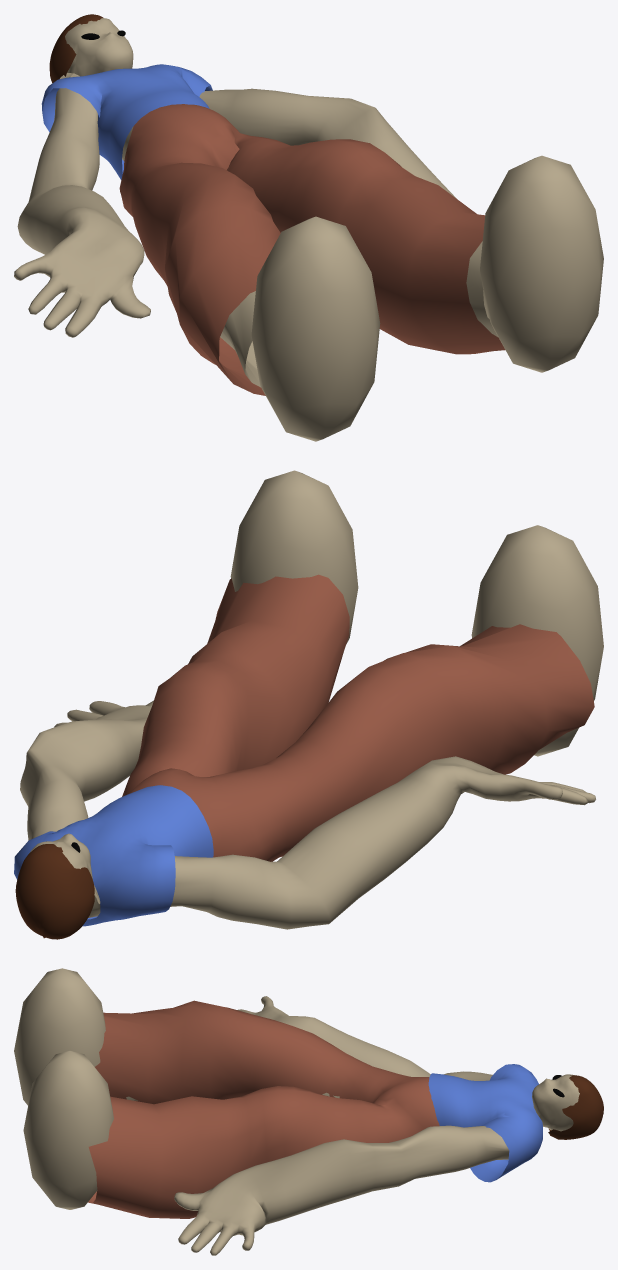
The model's file is kid.glb.
3 views of the same model, one above another, from view 1: azimuth 30°, elevation 25°; view 2: azimuth 150°, elevation 25°; view 3: azimuth 270°, elevation 25° (orthographic). The views are drawn at different scales.
Visible parts, largest first — view 1: Cube.004, Cube.001, Icosphere.001, Icosphere, Cube.003, Cube.002; view 2: Cube.004, Cube.001, Cube.003, Icosphere.001, Icosphere, Cube.002; view 3: Cube.004, Cube.001, Icosphere, Cube.003, Icosphere.001, Cube.002.
Part boxes in pixels (left/top/right/bottom): Cube.004: left=119, top=104, right=505, bottom=395; Cube.001: left=14, top=18, right=498, bottom=387; Icosphere.001: left=251, top=216, right=380, bottom=441; Icosphere: left=480, top=155, right=603, bottom=372; Cube.003: left=41, top=64, right=212, bottom=179; Cube.002: left=49, top=14, right=103, bottom=82; Cube.004: left=122, top=574, right=594, bottom=861; Cube.001: left=20, top=700, right=595, bottom=929; Cube.003: left=14, top=785, right=213, bottom=926; Icosphere.001: left=471, top=525, right=603, bottom=756; Icosphere: left=230, top=470, right=358, bottom=643; Cube.002: left=15, top=844, right=94, bottom=939; Cube.004: left=88, top=1000, right=439, bottom=1218; Cube.001: left=126, top=996, right=579, bottom=1255; Icosphere: left=23, top=1051, right=113, bottom=1209; Cube.003: left=428, top=1064, right=542, bottom=1182; Icosphere.001: left=14, top=968, right=105, bottom=1105; Cube.002: left=548, top=1075, right=603, bottom=1139.
Bounding box in the file's own units: 1.24 × 0.5255 × 1.61.
